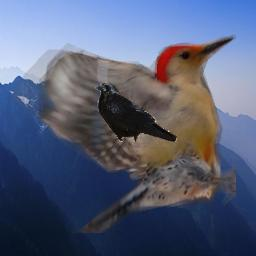Crow: (95, 82, 177, 142)
Woodpecker: (8, 32, 236, 233)
